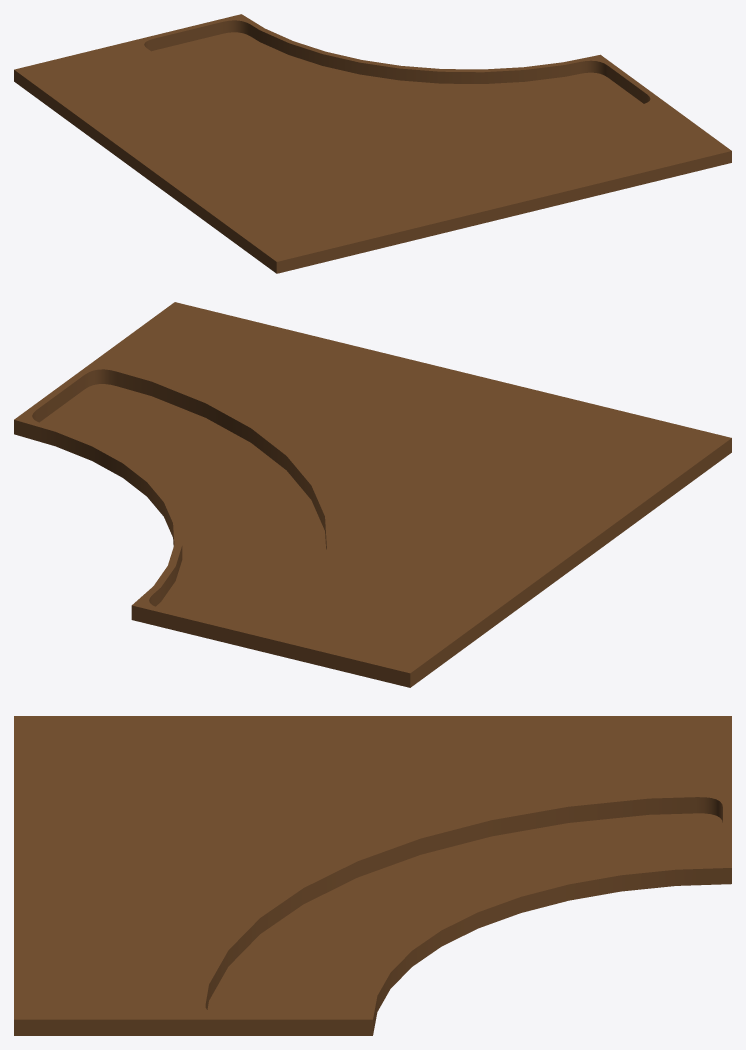
File: Ceiling_B_1m_TurnOut.FBX
The picture shows the model from 3 angles, top to bottom: view 1: azimuth 30°, elevation 25°; view 2: azimuth 150°, elevation 25°; view 3: azimuth 270°, elevation 25°; orthographic projection. The views are drawn at different scales.
Visible parts, largest first — view 1: Ceiling_B_1m_TurnOut; view 2: Ceiling_B_1m_TurnOut; view 3: Ceiling_B_1m_TurnOut.
Boxes of the visible parts, <box> form: Ceiling_B_1m_TurnOut: <box>14,14,731,273</box>; Ceiling_B_1m_TurnOut: <box>14,302,731,687</box>; Ceiling_B_1m_TurnOut: <box>14,716,731,1035</box>.
Size of the model in its own units: 400 by 10 by 400.
